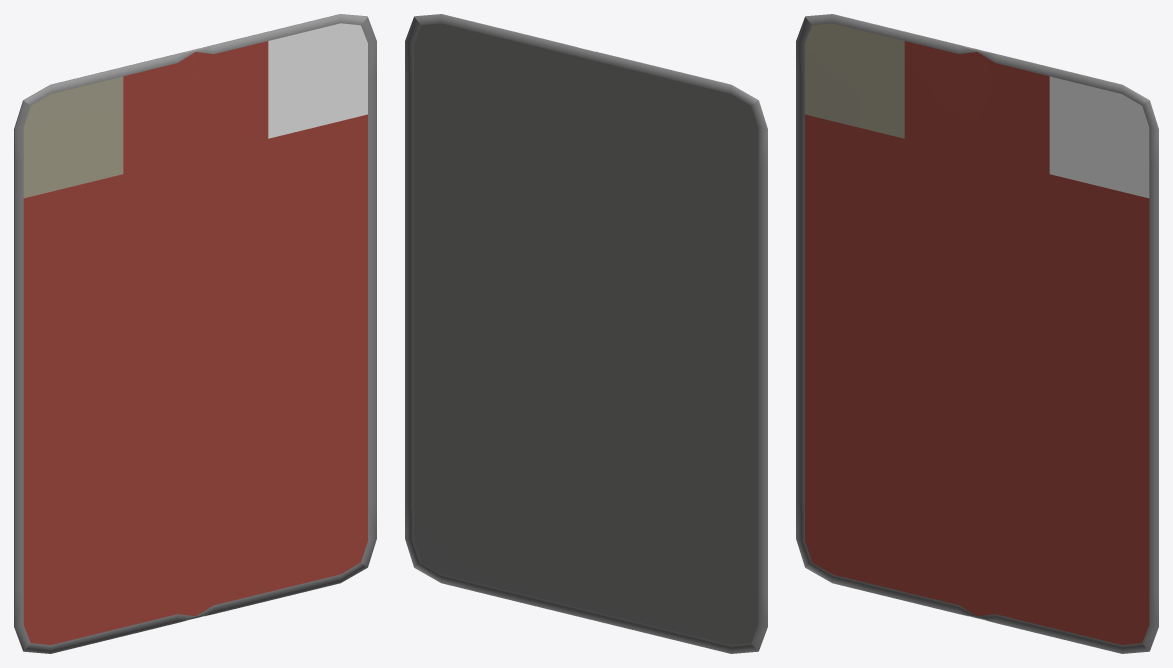
File: animated_card 1.FBX
The picture shows the model from 3 angles, left to right: view 1: azimuth 30°, elevation 25°; view 2: azimuth 150°, elevation 25°; view 3: azimuth 330°, elevation 25°; orthographic projection.
Parts seen in each view (by area): view 1: Box001; view 2: Box001; view 3: Box001.
Part boxes in pixels (<box>): Box001: <box>14,14,376,653</box>; Box001: <box>405,14,767,653</box>; Box001: <box>796,14,1158,653</box>.
Bounding box in the file's own units: 30 × 0.1 × 45.
